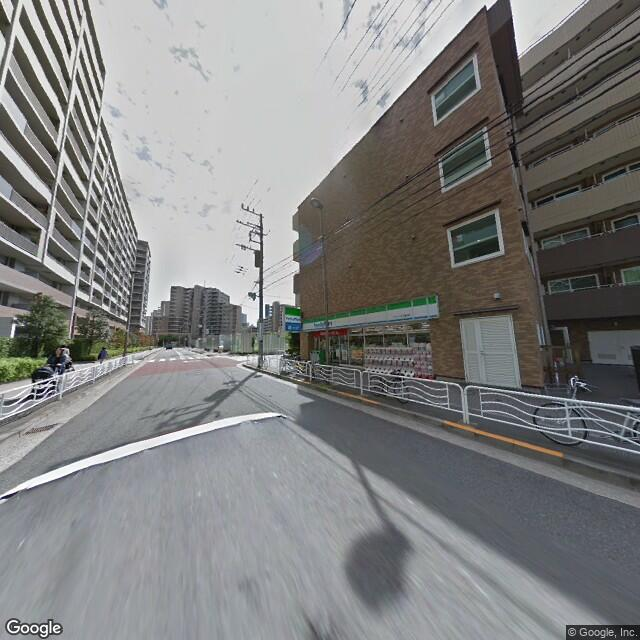family_mart: (299, 294, 442, 337), (280, 302, 302, 333)
